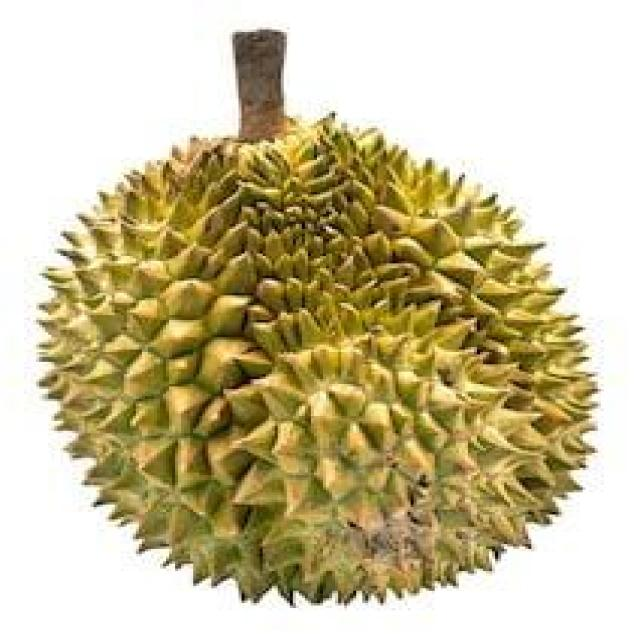defective: (30, 111, 604, 612)
